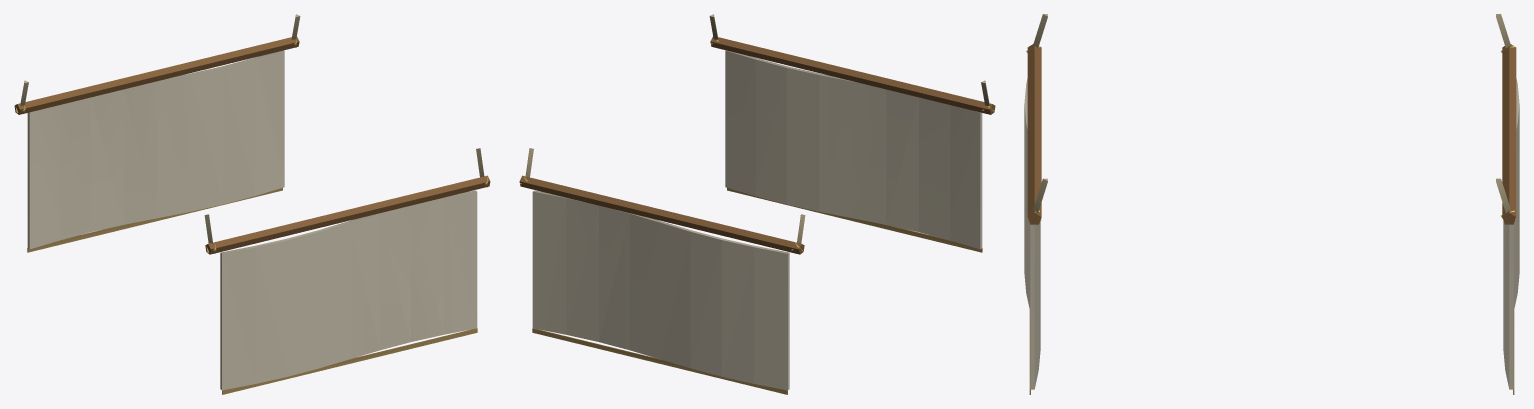
File: gd_balloon_banner.glb
3 views of the same model, side by side, from view 1: azimuth 30°, elevation 25°; view 2: azimuth 150°, elevation 25°; view 3: azimuth 270°, elevation 25° (orthographic). The views are drawn at different scales.
Visible parts, largest first — view 1: base; view 2: base; view 3: base.
Part boxes in pixels (<box>): base: <box>14,14,490,394</box>; base: <box>519,14,995,394</box>; base: <box>1024,14,1519,394</box>.
Size of the model in its own units: 0.2751 by 0.1667 by 0.338.
